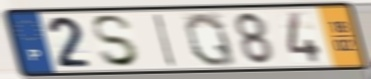2: (48, 14, 99, 70)
4: (286, 10, 324, 65)
8: (233, 10, 278, 67)
I: (153, 12, 178, 69)
Q: (183, 10, 240, 68)
S: (89, 13, 142, 69)
